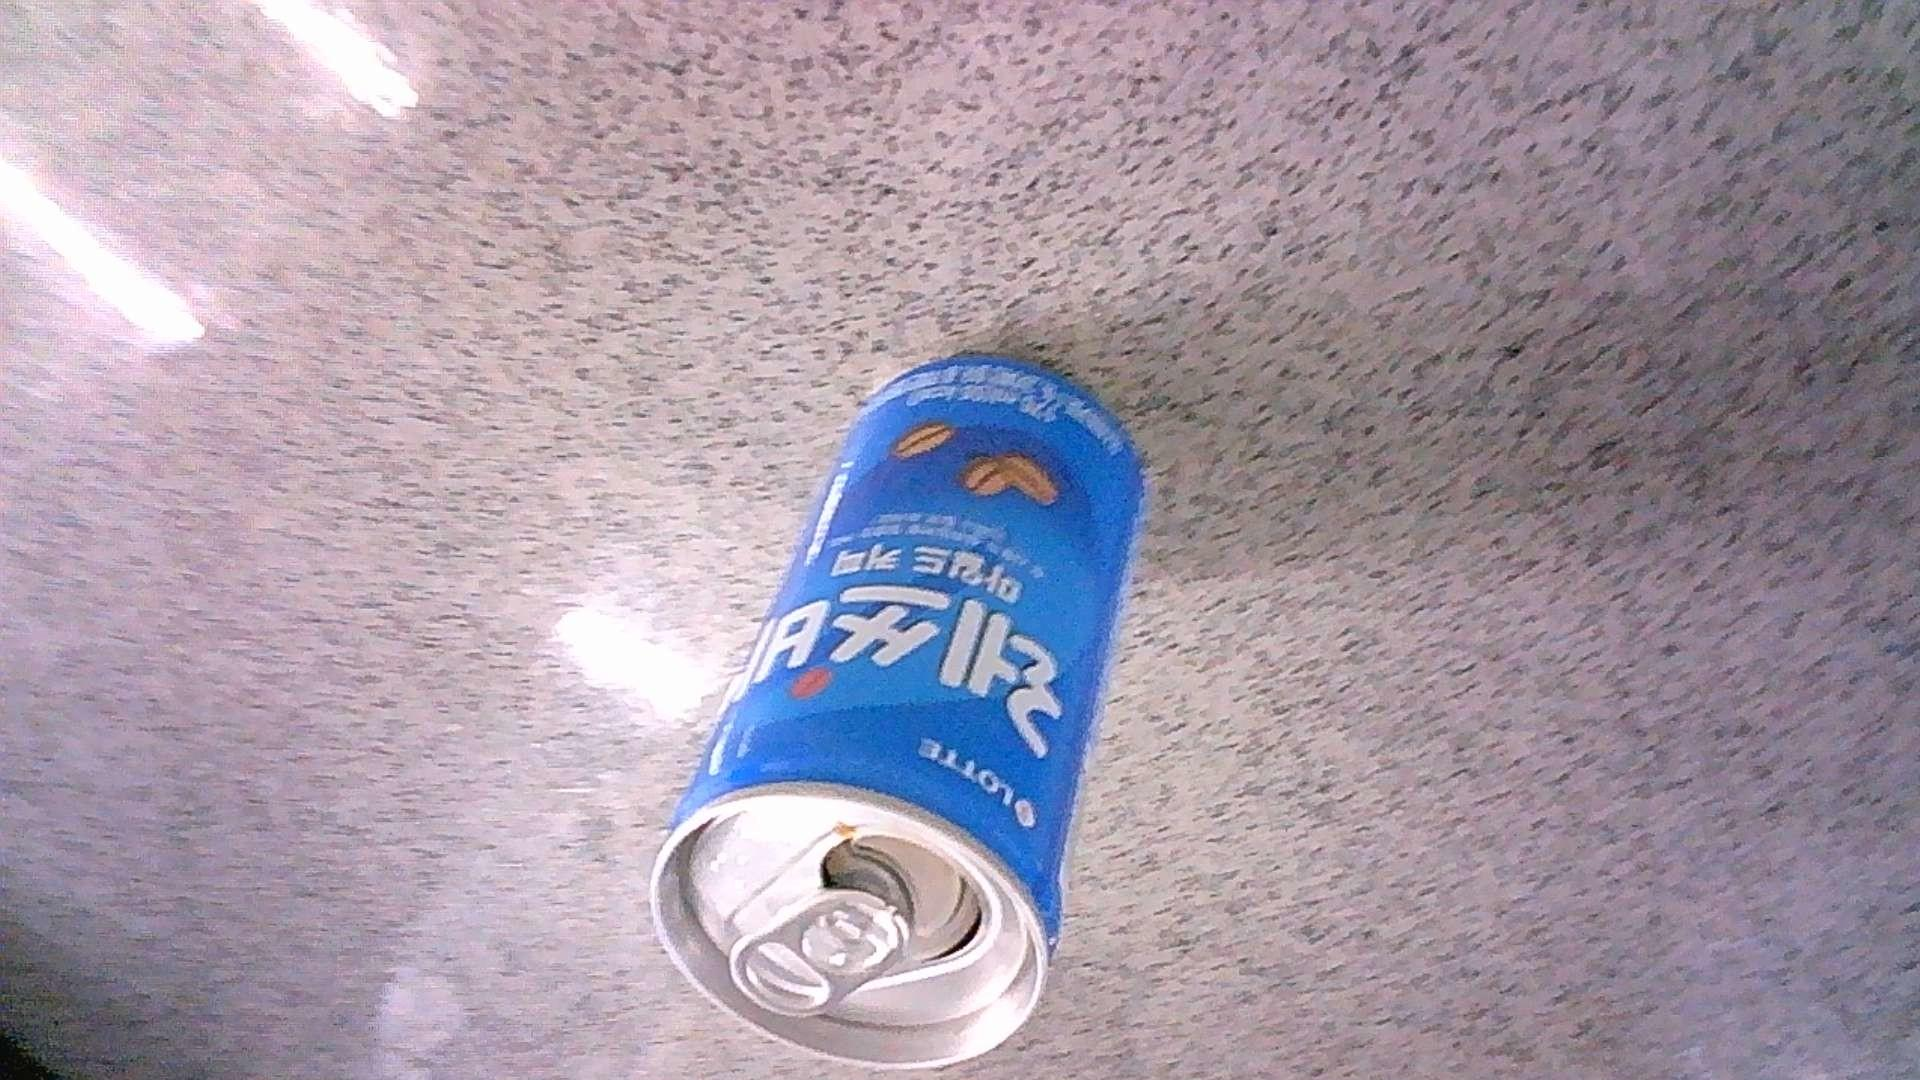letsbe: (646, 349, 1146, 1069)
